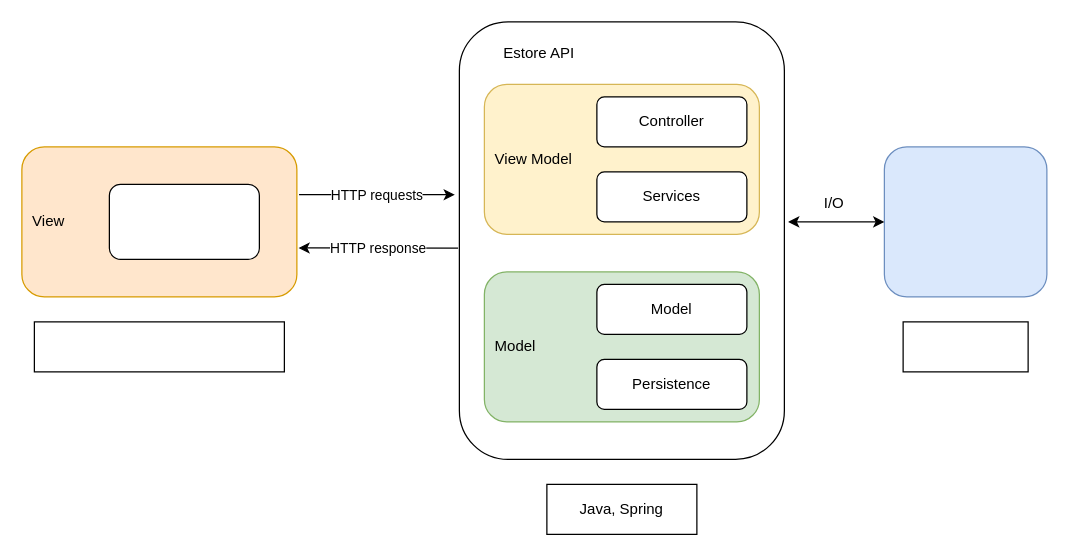
This 1069x556 diagram has some shape labels left out. Here are the shapes that lost their labels. From the top down, the centre of each, then its label:
the point at 183,221: Estore UI
the point at 965,221: Storage
the point at 158,346: HTML, CSS, TypeScript Angular Platform
the point at 965,346: JSON
